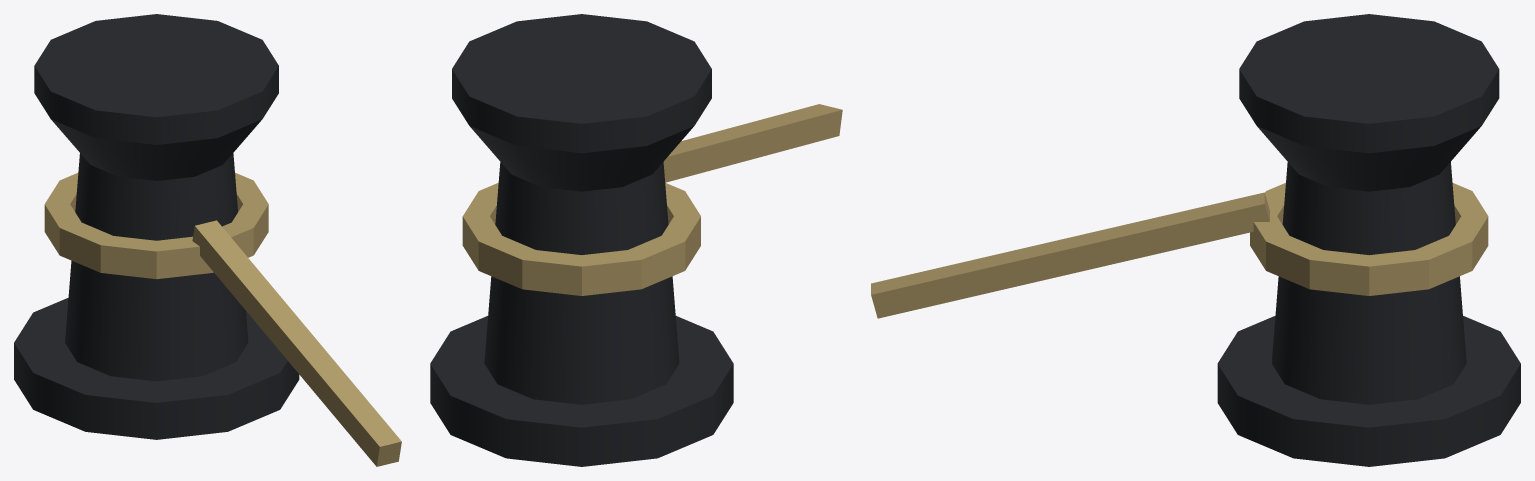
Rendered from hb_bollard.glb.
The picture shows the model from 3 angles, left to right: view 1: azimuth 30°, elevation 25°; view 2: azimuth 150°, elevation 25°; view 3: azimuth 270°, elevation 25°; orthographic projection. The views are drawn at different scales.
Parts seen in each view (by area): view 1: hb_bollard; view 2: hb_bollard; view 3: hb_bollard.
Part boxes in pixels (<box>): hb_bollard: <box>14,14,401,466</box>; hb_bollard: <box>430,14,842,466</box>; hb_bollard: <box>871,14,1520,466</box>.
Size of the model in its own units: 0.56 by 0.68 by 1.2.
